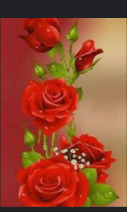RedRose: (17, 151, 96, 209), (15, 74, 88, 134), (17, 19, 67, 54)
